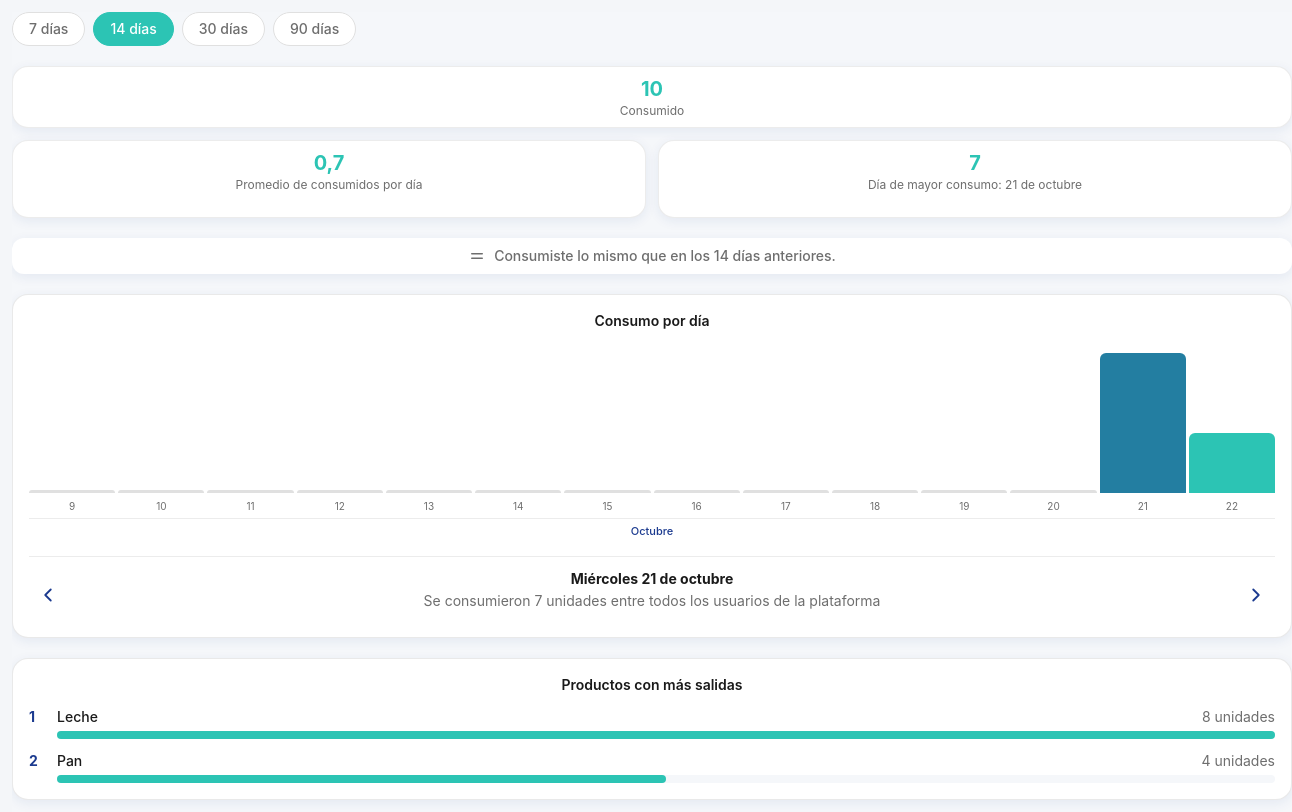
TrendsPanel · interacción con las barras › con un texto de alcance, lo agrega al final del detalle del día, pero no al tooltip
Hover over the button with test id "trends-bar-12": (1143, 418) [1100,343,1186,493]
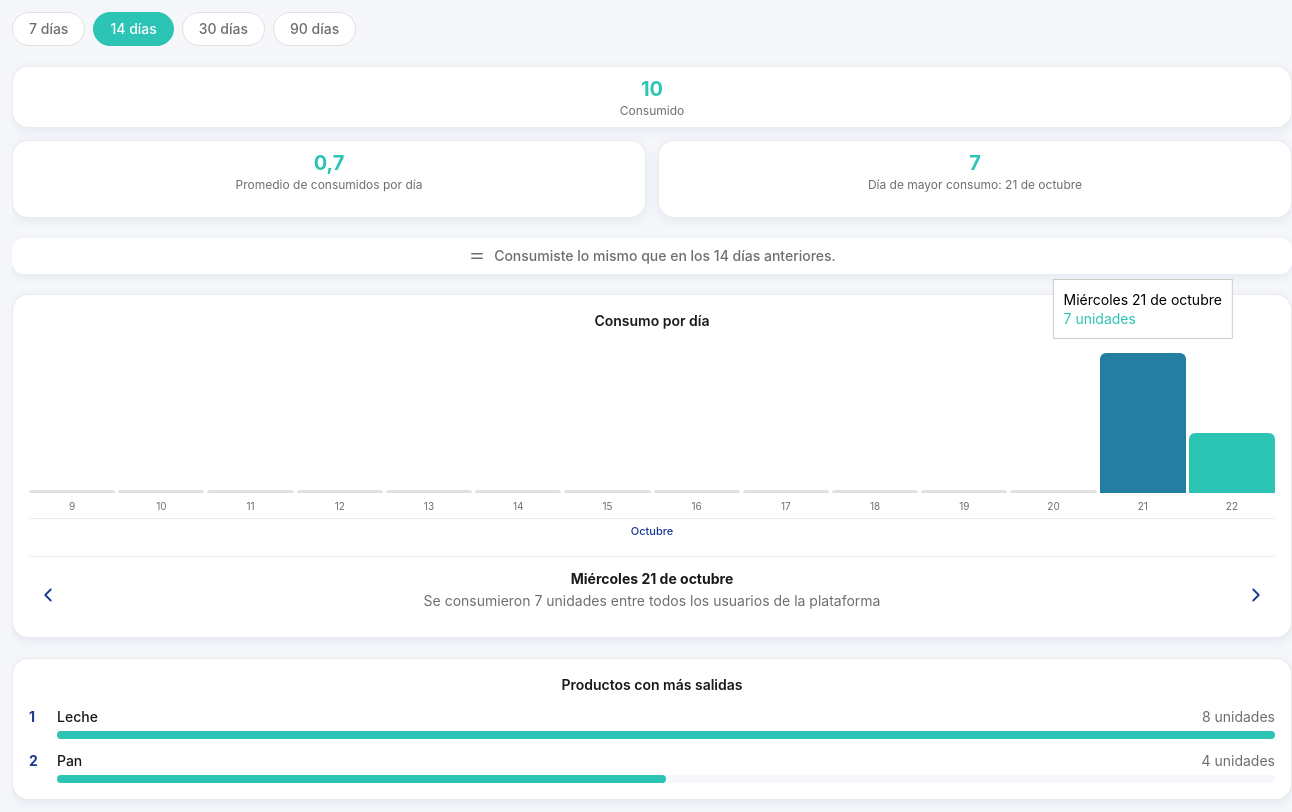
Expected: the tooltip with test id "trends-tooltip-12" does not show "entre todos los usuarios", [1052,278,1233,339]
Now the text with test id "trends-tooltip-units-12" reads "7 unidades", box [1064,310,1136,327]
Click the button with test id "trends-bar-12": (1143, 418) [1100,343,1186,493]
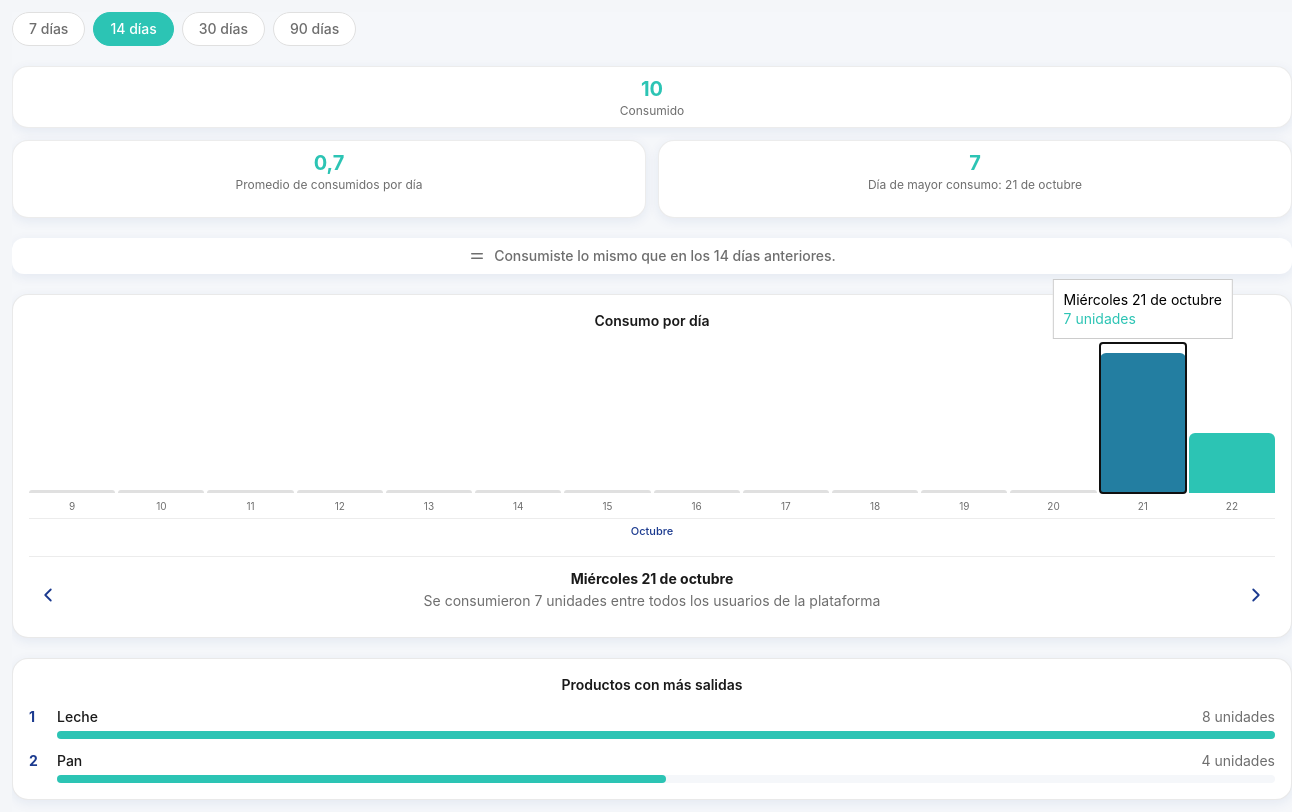
Expected: the text with test id "trends-day-units" reads "Se consumieron 7 unidades entre todos los usuarios de la plataforma", [424,592,880,608]
# un día sin consumo no lleva el texto de alcance
Click the button with test id "trends-bar-0": (72, 418) [29,343,115,493]
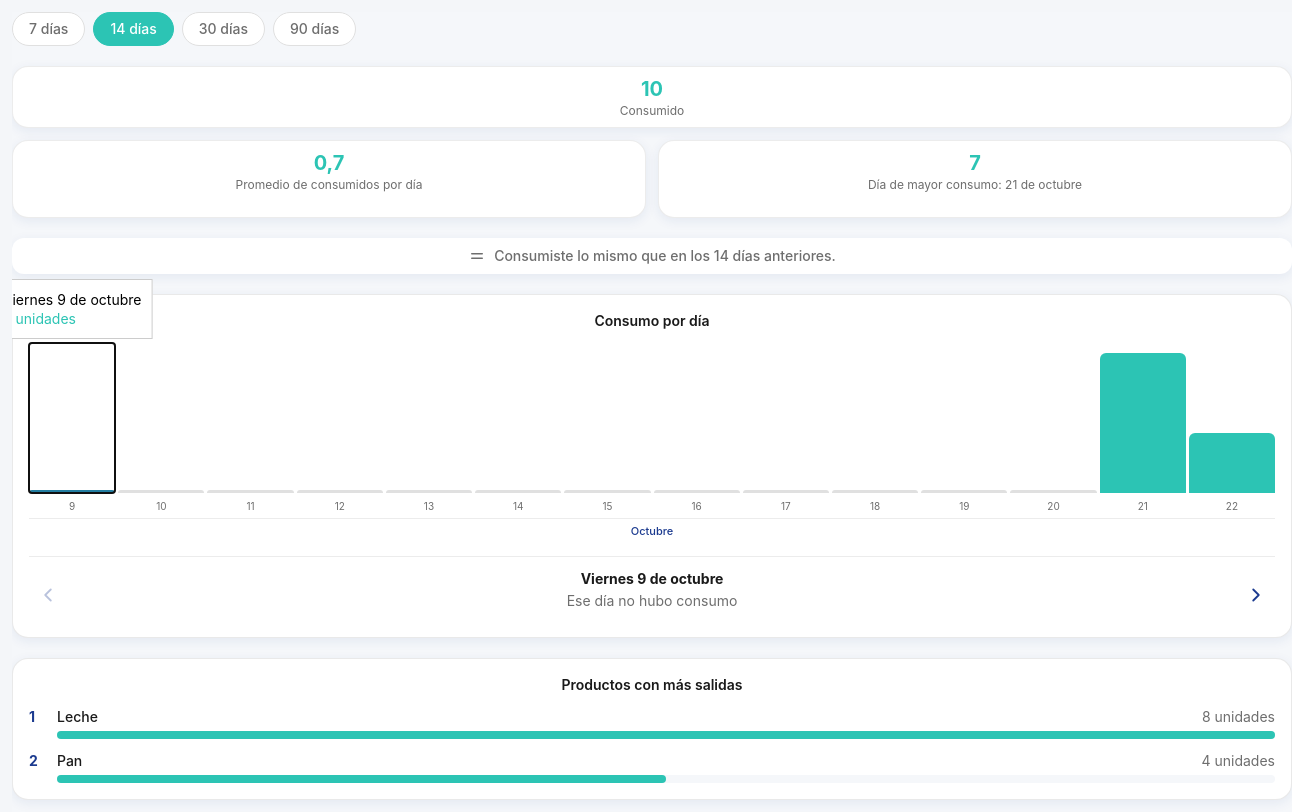
Now the text with test id "trends-day-units" reads "Ese día no hubo consumo", box [567,592,737,608]
